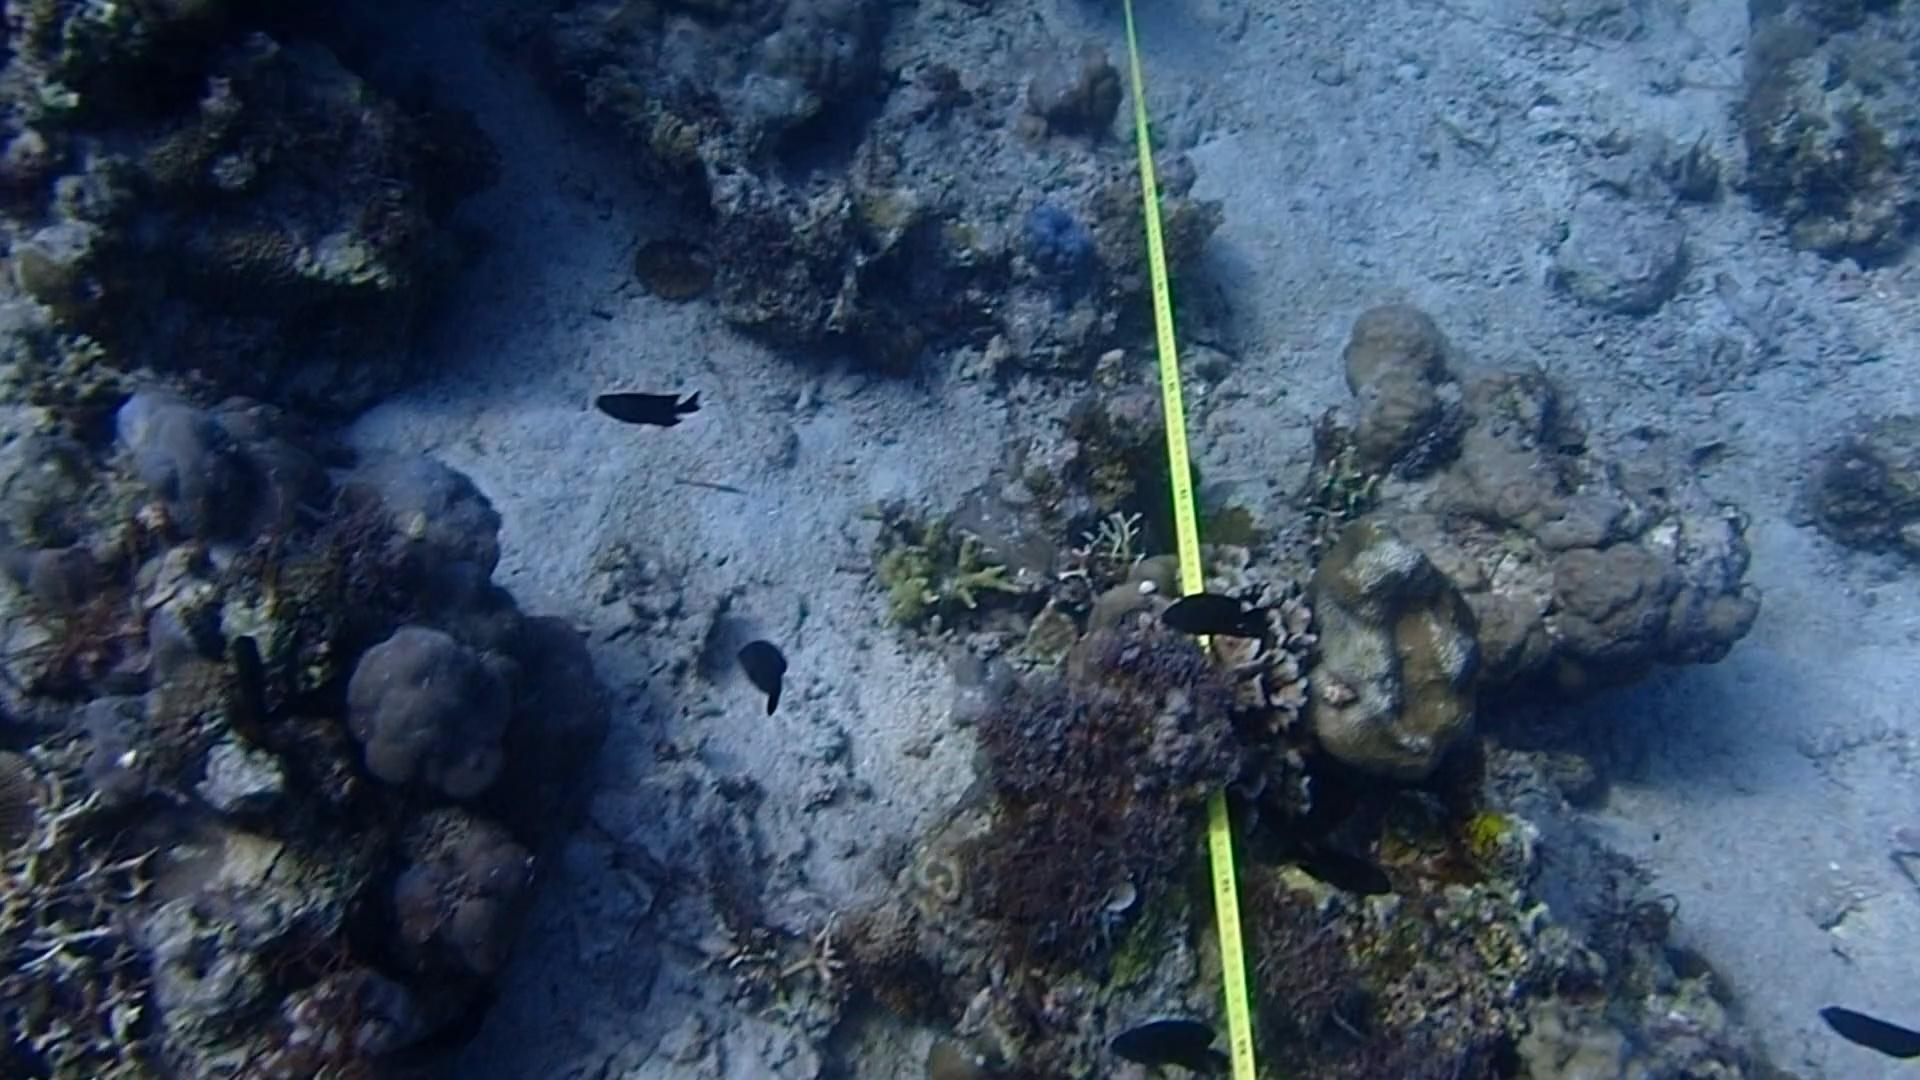Dark Fish: (1286, 815, 1389, 923), (215, 628, 295, 765), (415, 971, 518, 1076), (1146, 580, 1276, 657), (1816, 993, 1920, 1080), (578, 382, 702, 455), (1098, 1010, 1230, 1077), (745, 628, 795, 720)
Light Fish: (1676, 123, 1721, 182)
